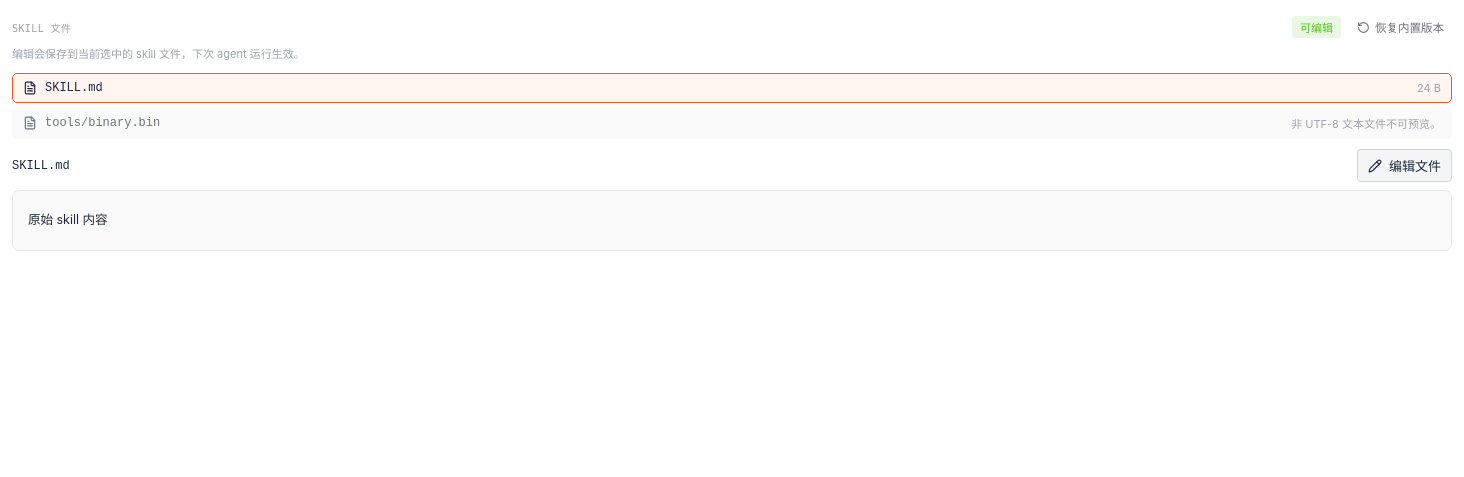
Test: SkillFilePreview › edits and saves small text files
Expected: the text "原始 skill 内容" is shown, x1=28 y1=212 x2=108 y2=227
Step 1. Click the button "编辑文件" → x=1404, y=166, box x1=1357 y1=149 x2=1452 y2=182
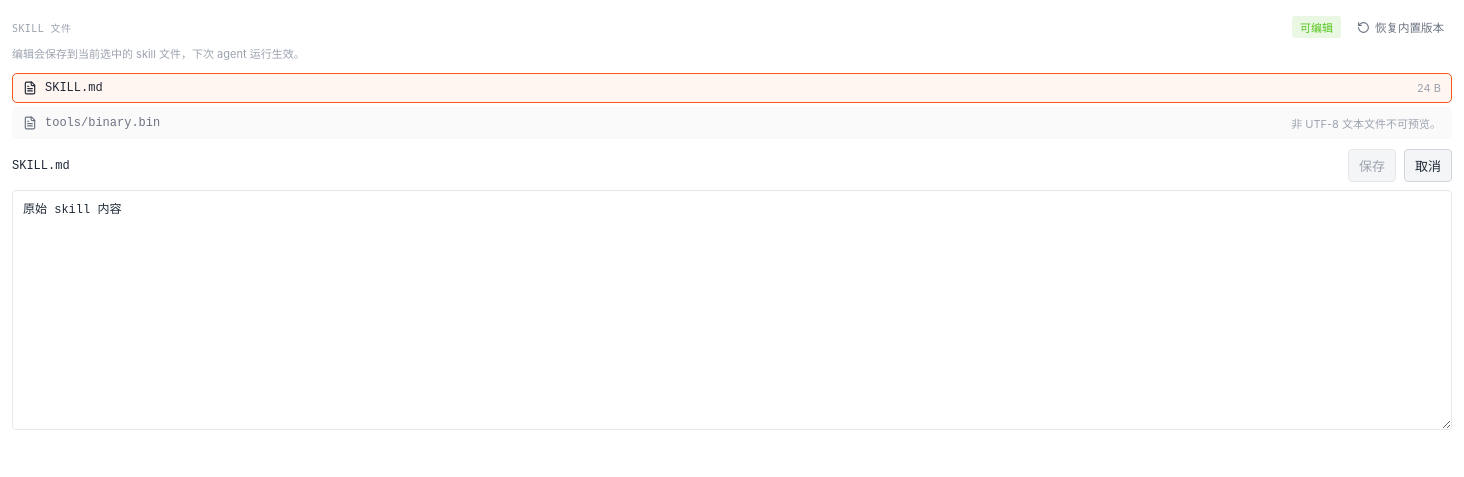
Step 2. Clear the text box named "Skill 文件内容" → x=732, y=310, box x1=12 y1=190 x2=1452 y2=430
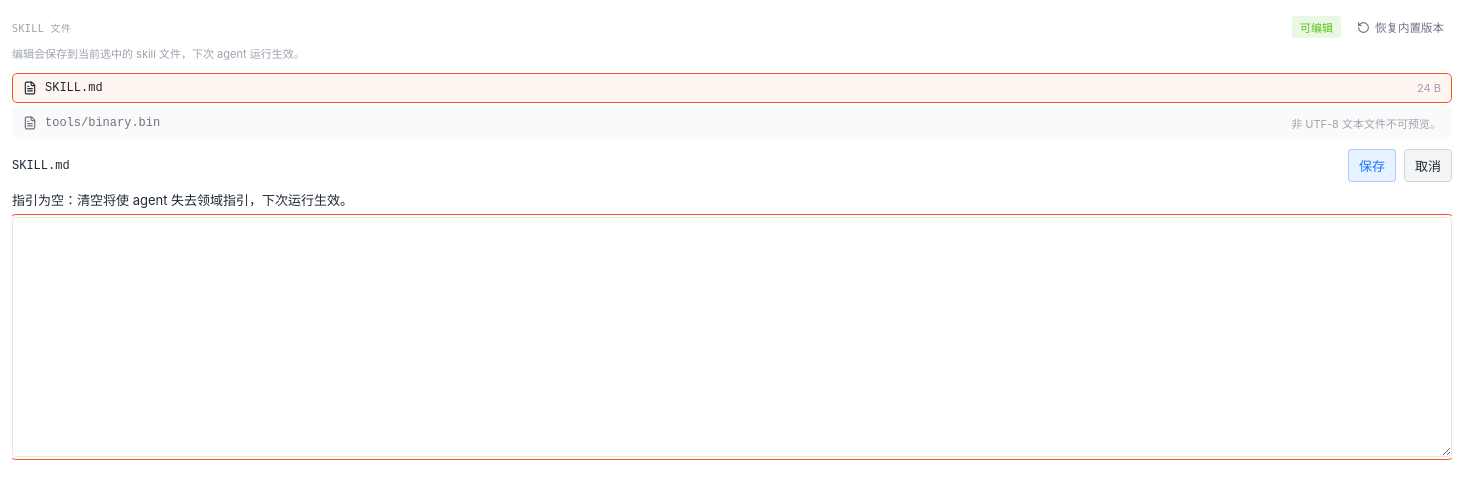
Step 3. Type "更新后的内容" into the text box named "Skill 文件内容" → x=732, y=337, box x1=12 y1=217 x2=1452 y2=457
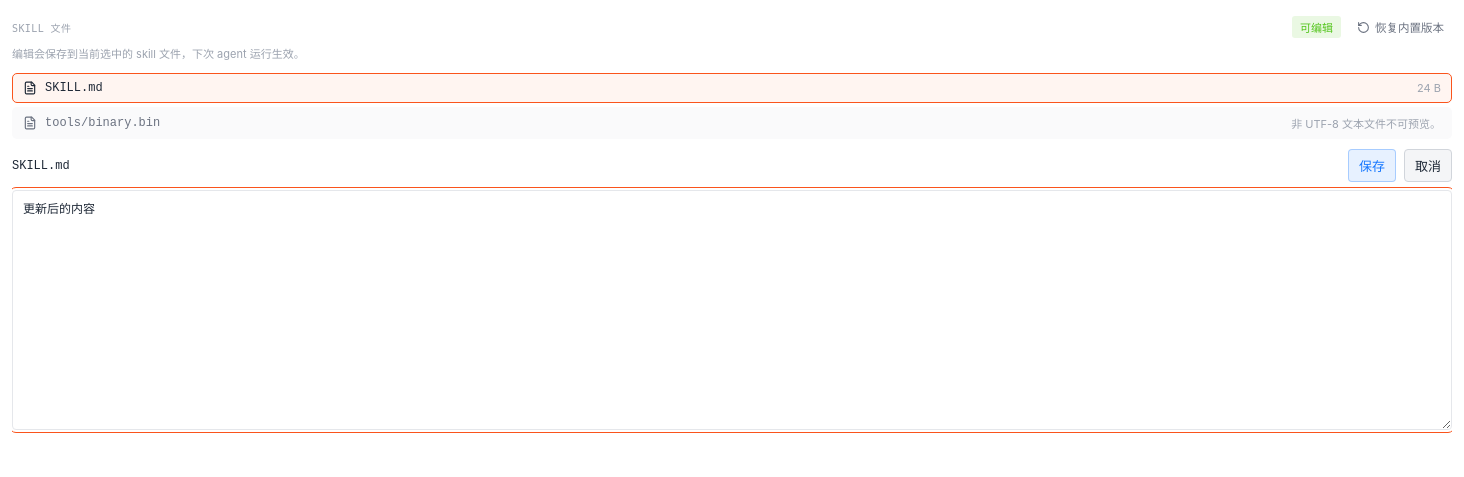
Step 4. Click the button "保存" → x=1372, y=166, box x1=1348 y1=149 x2=1396 y2=182
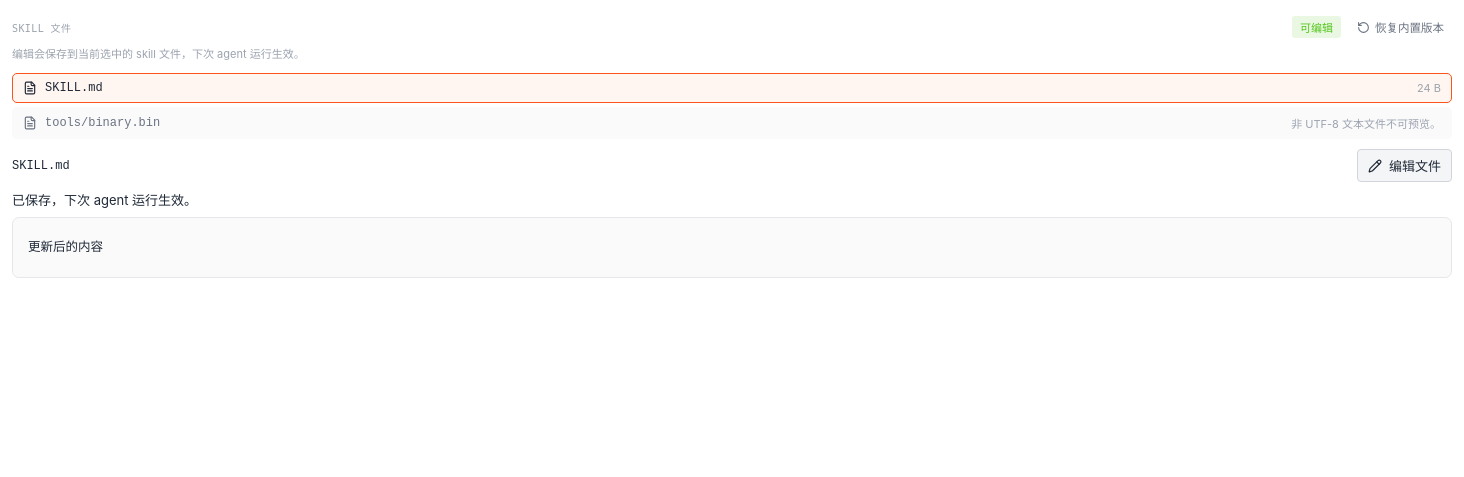
Result: the text "更新后的内容" is shown at x1=28 y1=239 x2=103 y2=254
